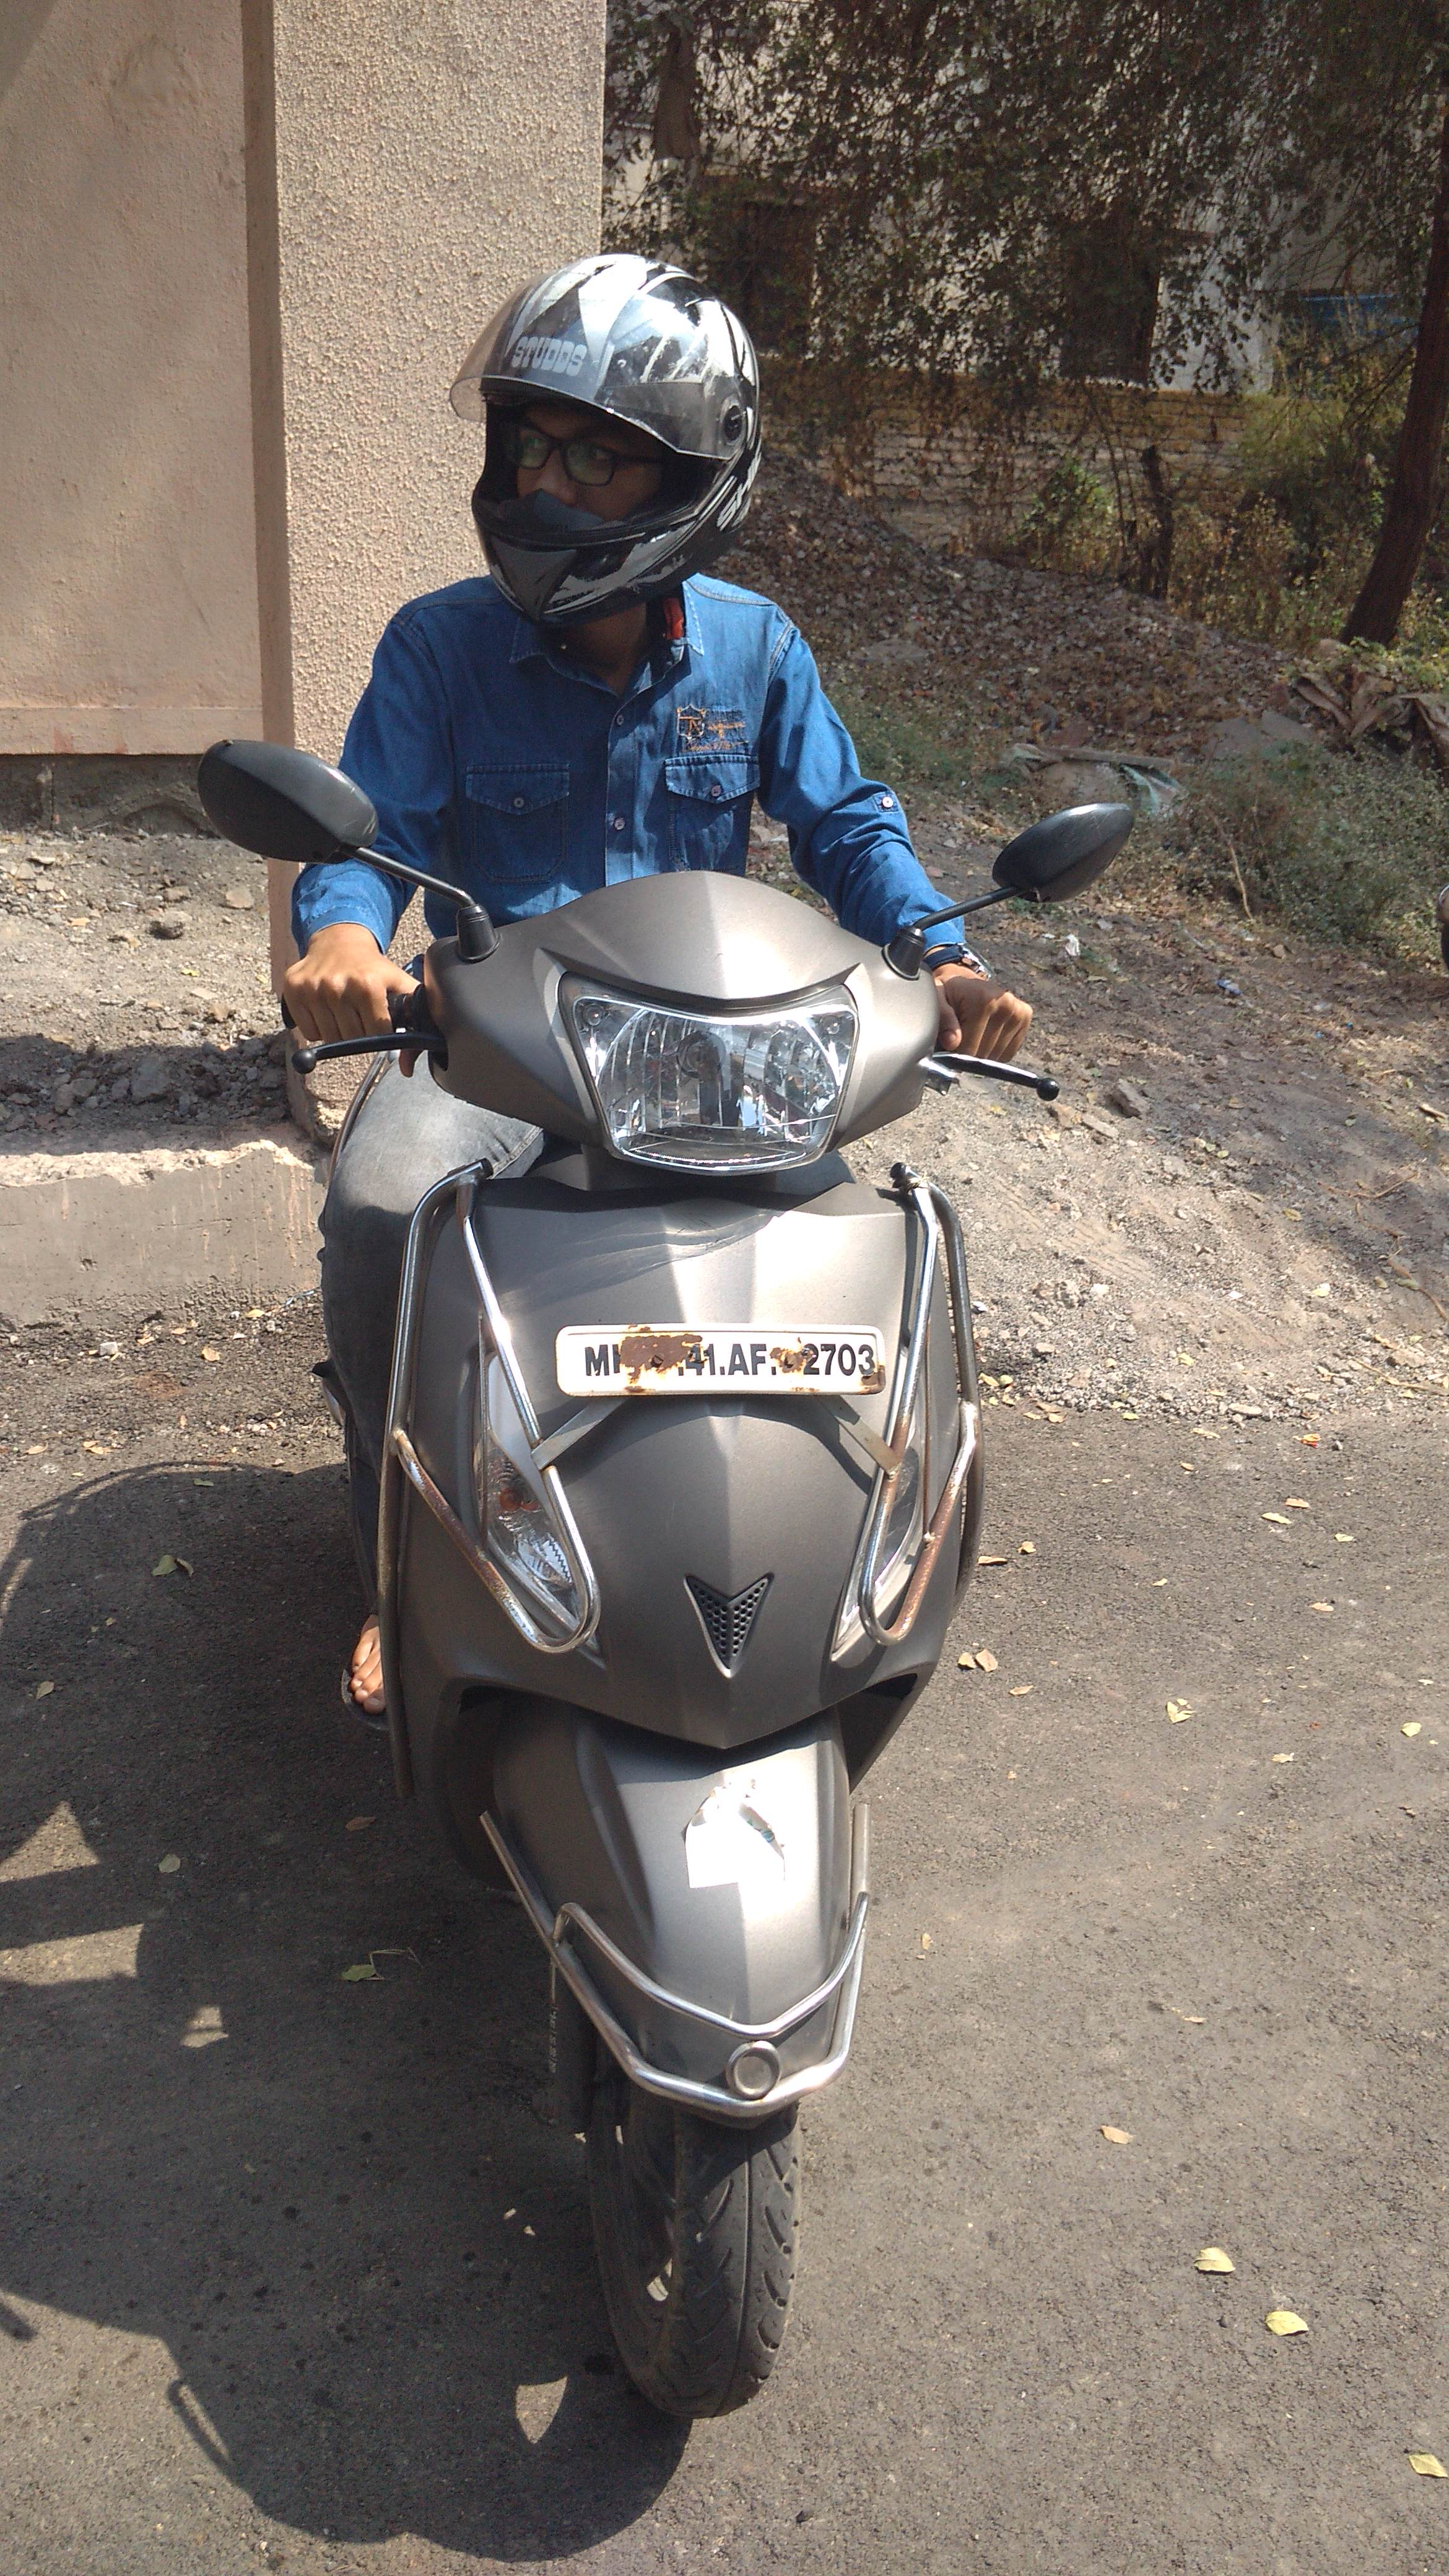helmet: (324, 235, 1008, 1173)
